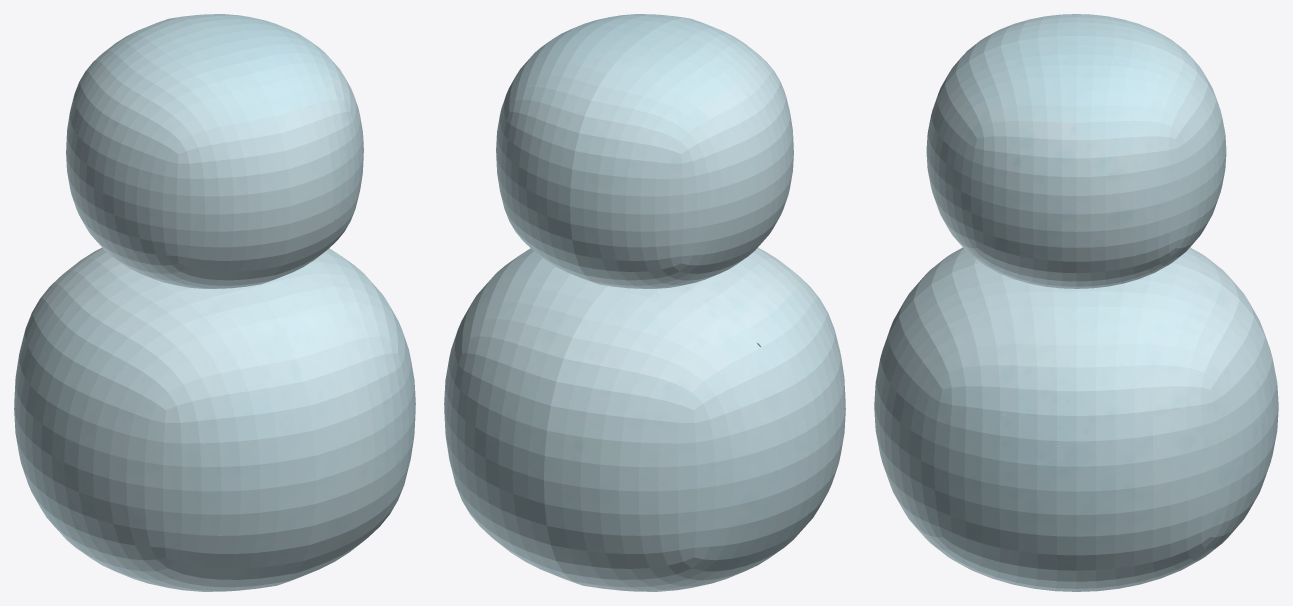
File: frosty1.obj
3 renders of one model, left to right at view 1: azimuth 30°, elevation 25°; view 2: azimuth 150°, elevation 25°; view 3: azimuth 270°, elevation 25°, orthographic.
Parts seen in each view (by area): view 1: frosty_2; view 2: frosty_2; view 3: frosty_2.
Part boxes in pixels (box(x1,y1,x2,y2)): frosty_2: box(14, 14, 415, 591); frosty_2: box(444, 14, 845, 591); frosty_2: box(874, 14, 1278, 591).
Size of the model in its own units: 1.95 by 2.82 by 1.96.
Materials: 1 (1 with a texture image).
